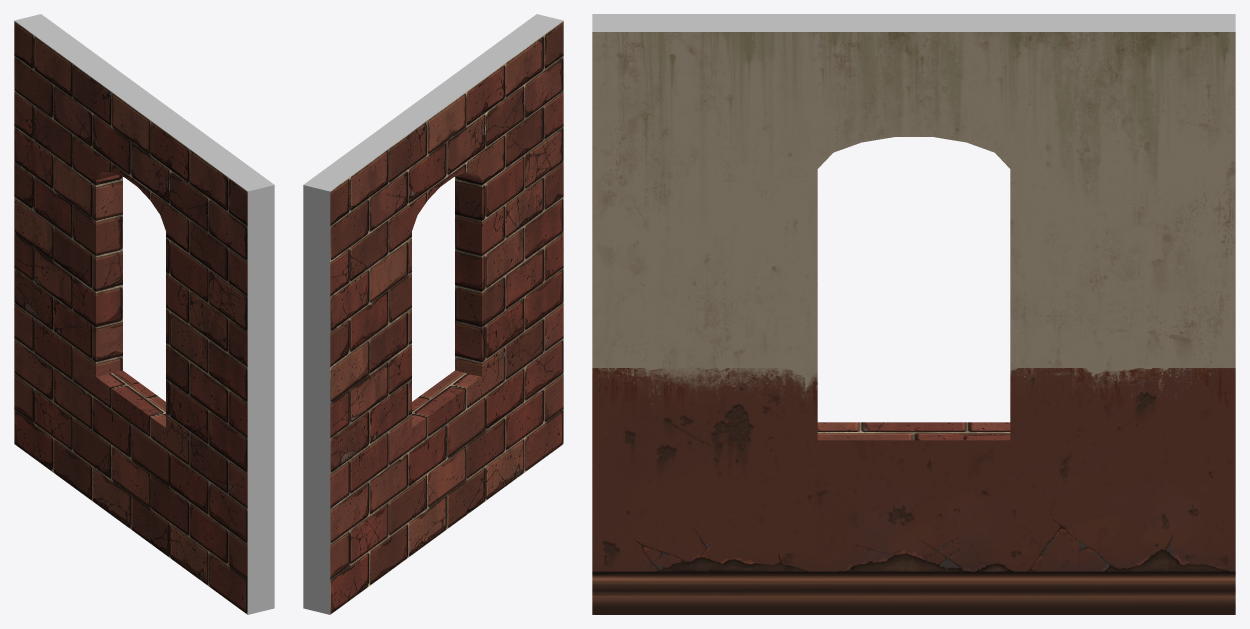
File: wall01_window1m_D.fbx
The picture shows the model from 3 angles, left to right: view 1: azimuth 30°, elevation 25°; view 2: azimuth 150°, elevation 25°; view 3: azimuth 270°, elevation 25°; orthographic projection. The views are drawn at different scales.
Visible parts, largest first — view 1: wall01_window1m_D; view 2: wall01_window1m_D; view 3: wall01_window1m_D.
Part boxes in pixels (box(x1,y1,x2,y2)): wall01_window1m_D: box(14, 14, 274, 614); wall01_window1m_D: box(303, 14, 563, 614); wall01_window1m_D: box(592, 14, 1235, 614).
Size of the model in its own units: 20 by 300 by 300.
